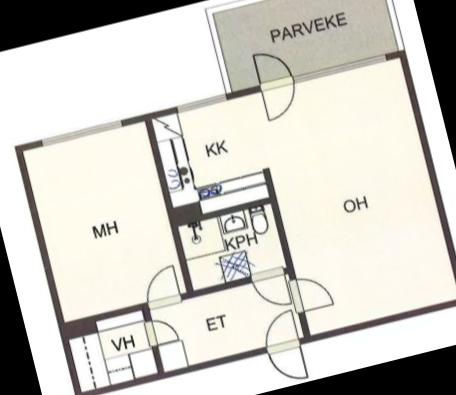door: (286, 268, 338, 316), (256, 74, 304, 123), (248, 44, 296, 90), (248, 264, 294, 312), (267, 338, 312, 384), (138, 262, 185, 306), (258, 308, 301, 353), (142, 309, 184, 347)
window: (290, 51, 392, 86), (36, 114, 128, 150), (171, 88, 232, 116)
